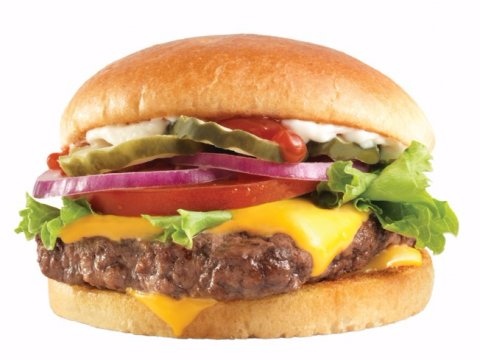hamburger: (41, 40, 452, 343)
